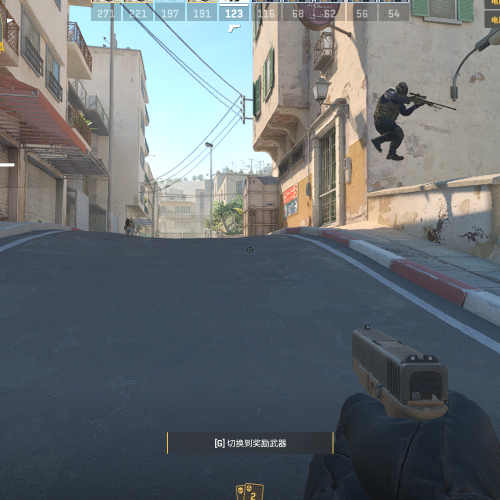chicken: (123, 216, 137, 239)
ct_body: (372, 81, 409, 161)
ct_head: (396, 80, 408, 98)
